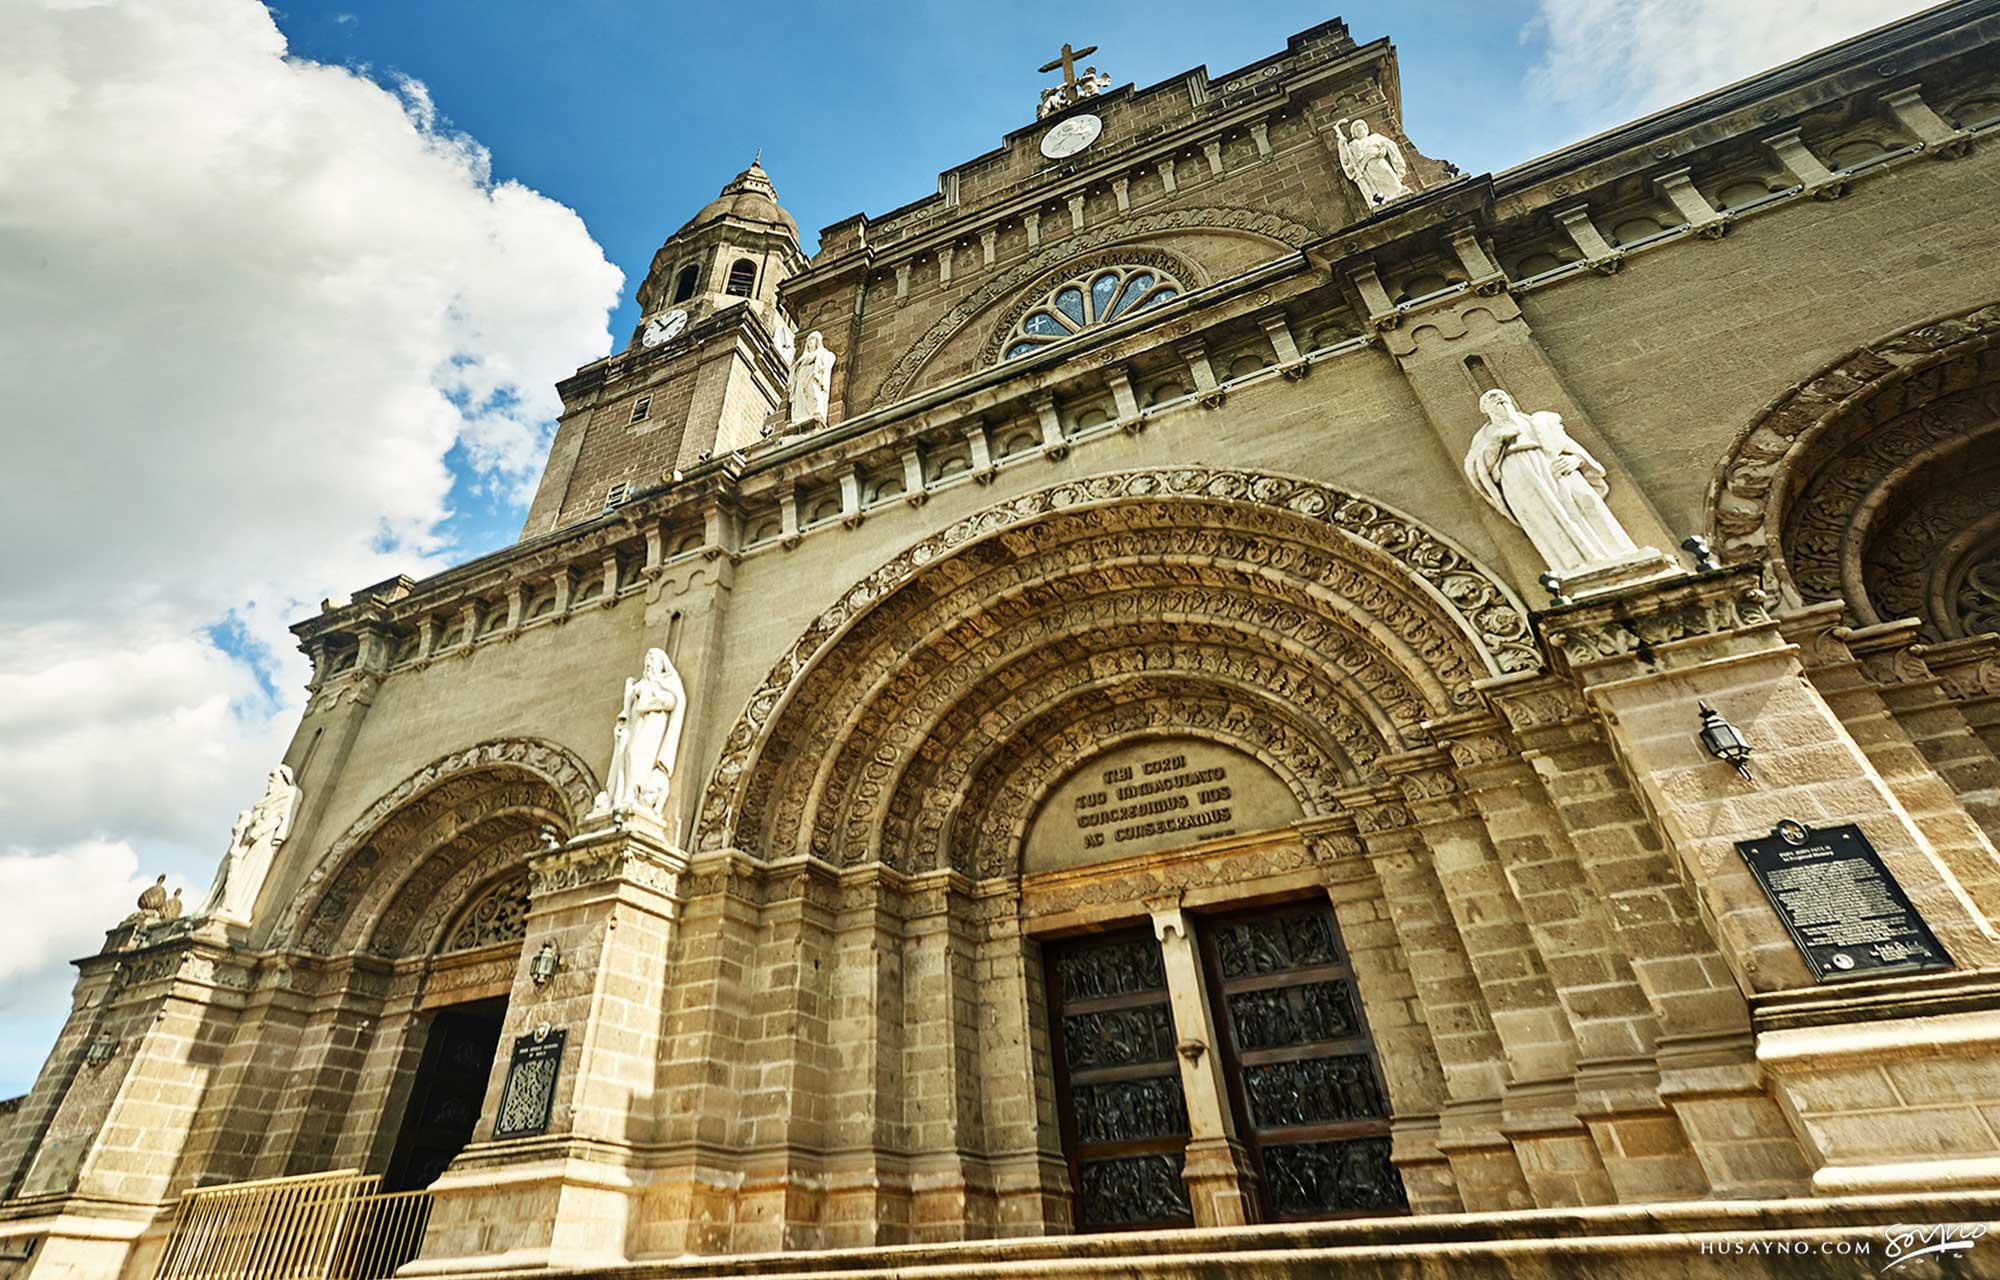manila_cathedral_church_intramuros_manila: (71, 20, 2000, 1274)
